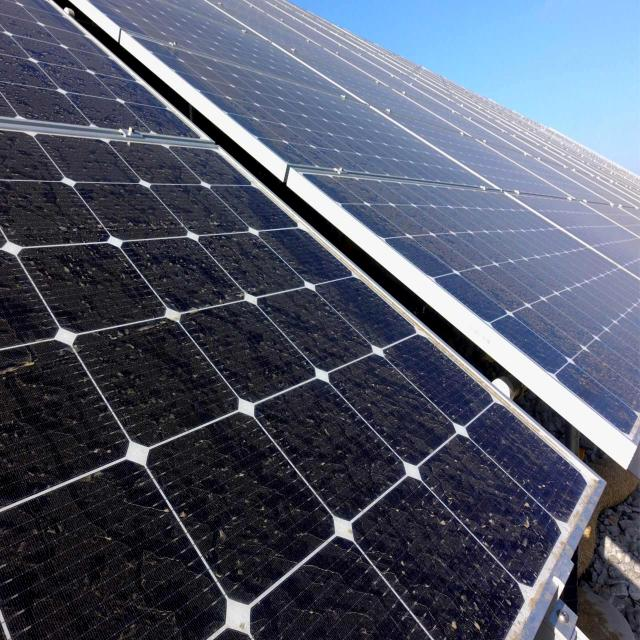dust: (30, 476, 142, 640), (0, 159, 168, 237), (171, 449, 299, 551), (36, 239, 238, 299), (462, 448, 552, 564), (79, 333, 188, 423), (382, 505, 464, 614), (356, 364, 440, 451), (0, 354, 68, 459), (301, 398, 360, 501), (279, 284, 356, 354), (202, 314, 270, 393), (304, 570, 369, 640), (184, 179, 234, 232)
